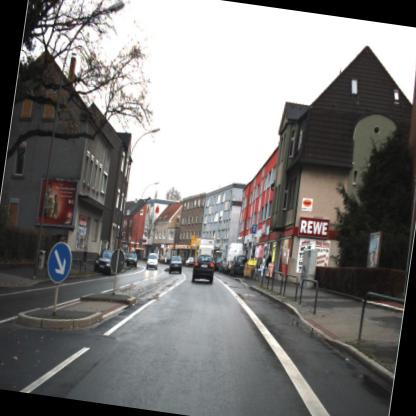mandatory: (41, 235, 78, 290)
